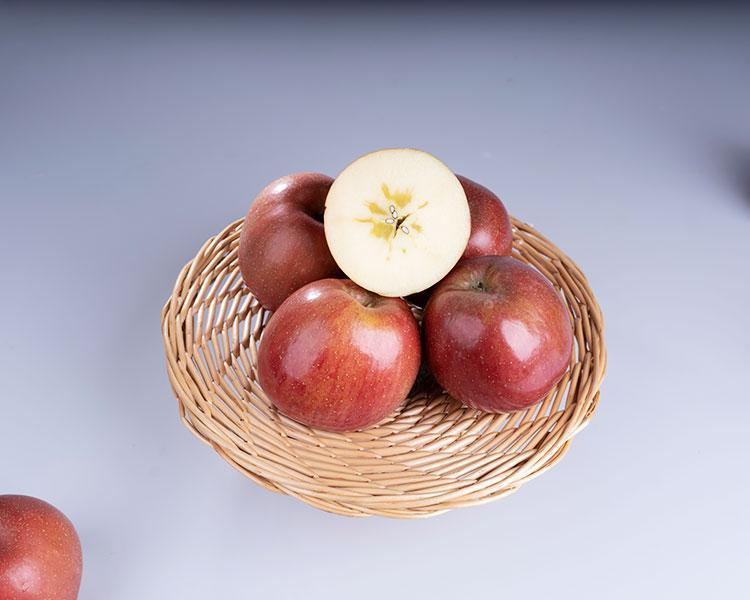apple: (420, 253, 573, 418), (256, 279, 418, 432), (323, 147, 471, 301), (237, 167, 345, 311), (2, 493, 83, 600)
